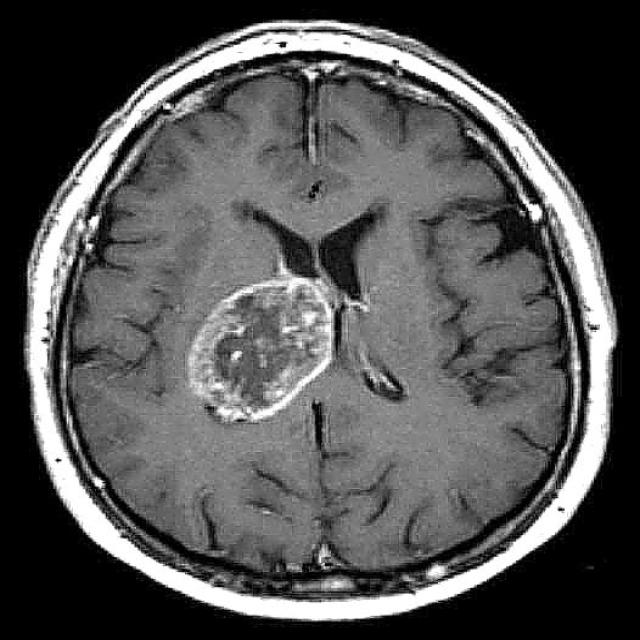Tumor-Cell: (181, 249, 340, 420)
